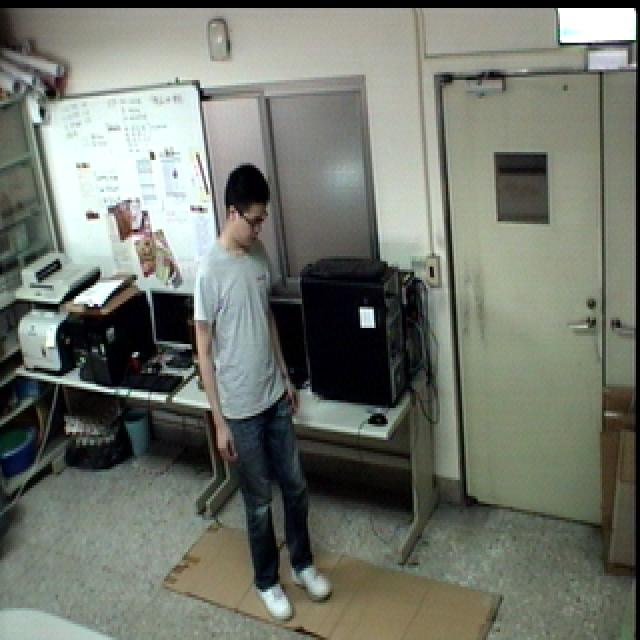stand: (192, 158, 341, 627)
